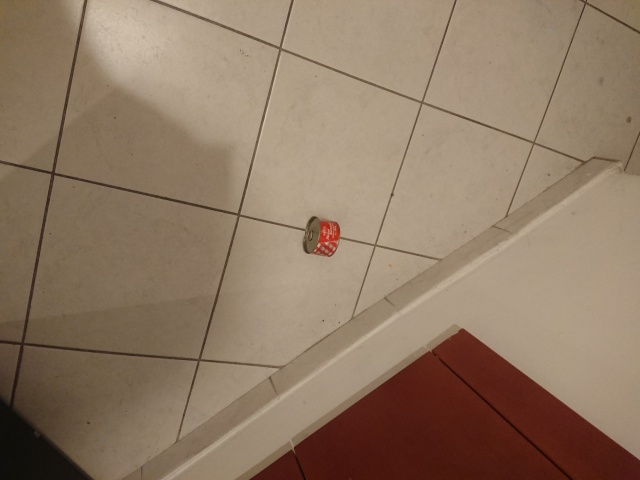Podravka Luncheon Meat 150g: (302, 214, 342, 259)
